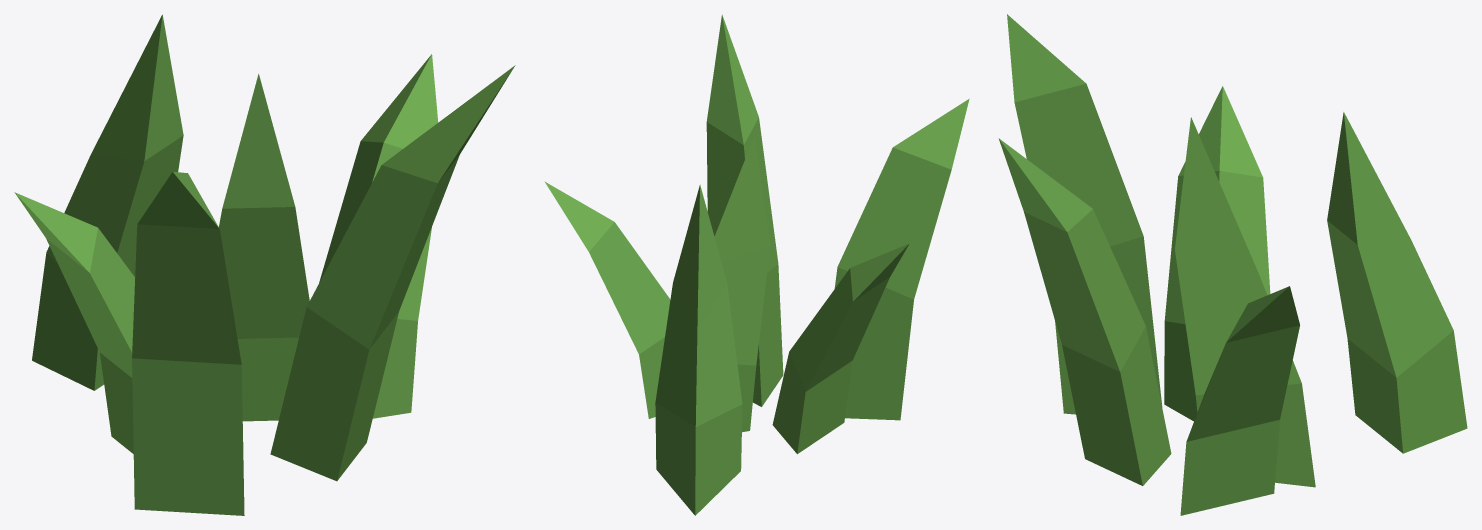
Rendered from Fiber.fbx.
3 renders of one model, left to right at view 1: azimuth 30°, elevation 25°; view 2: azimuth 150°, elevation 25°; view 3: azimuth 270°, elevation 25°, orthographic. The views are drawn at different scales.
Parts seen in each view (by area): view 1: GrassBunch4; view 2: GrassBunch4; view 3: GrassBunch4.
Boxes of the visible parts, bbox=[...] form: GrassBunch4: bbox=[14, 14, 515, 515]; GrassBunch4: bbox=[544, 14, 969, 515]; GrassBunch4: bbox=[998, 14, 1467, 515].
Size of the model in its own units: 71.32 by 64.61 by 70.58.
